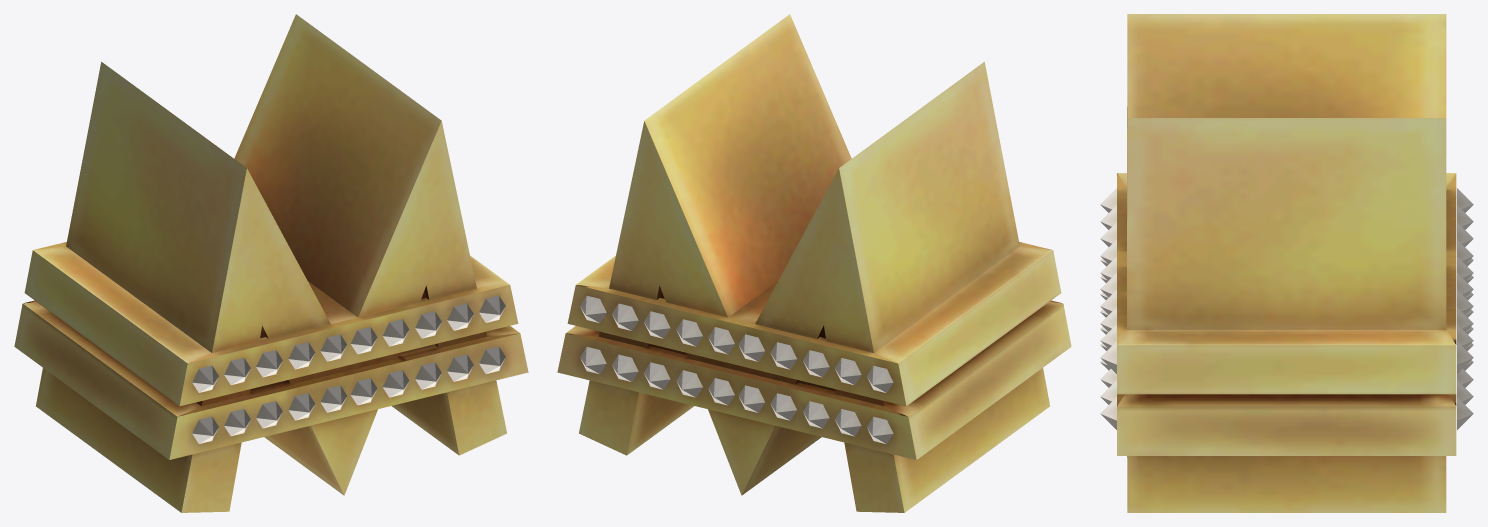
Rendered from GOFPS2ICON.ico.obj.
3 renders of one model, left to right at view 1: azimuth 30°, elevation 25°; view 2: azimuth 150°, elevation 25°; view 3: azimuth 270°, elevation 25°, orthographic. The views are drawn at different scales.
Bounding box in the file's own units: 4.92 × 4.6 × 4.05.
1 material, 1 textured.
